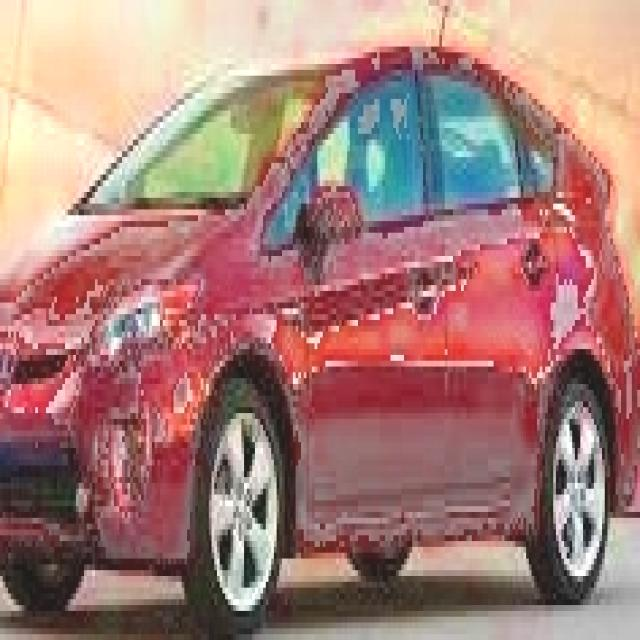maroon: (0, 40, 638, 593)
